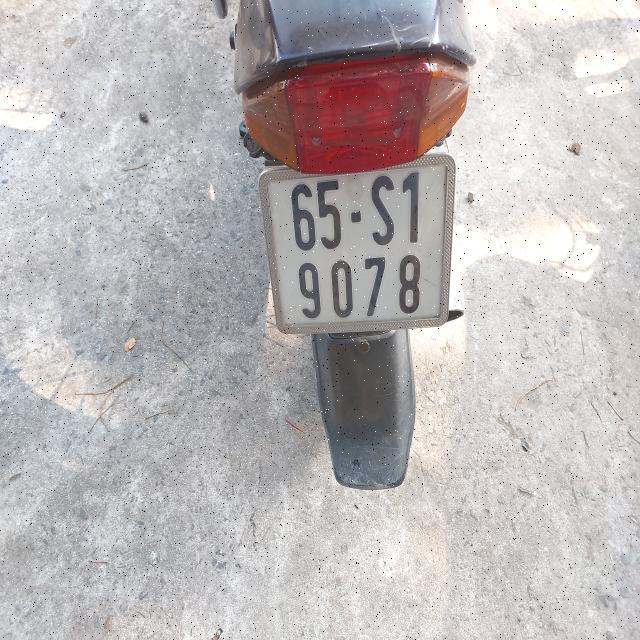0: (328, 260, 356, 318)
1: (401, 168, 423, 246)
5: (316, 174, 343, 252)
6: (286, 178, 318, 251)
7: (365, 253, 387, 322)
8: (398, 251, 425, 314)
9: (294, 261, 323, 319)
S: (369, 172, 396, 246)
